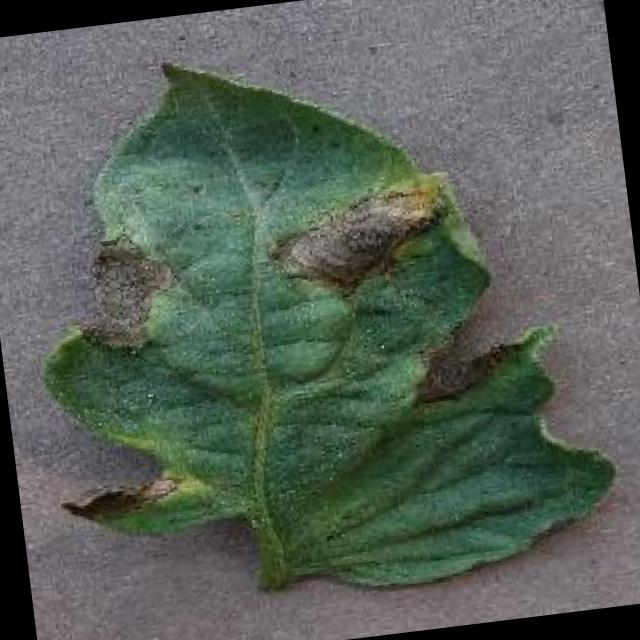Tomato_Early_Blight: (21, 10, 537, 588)
